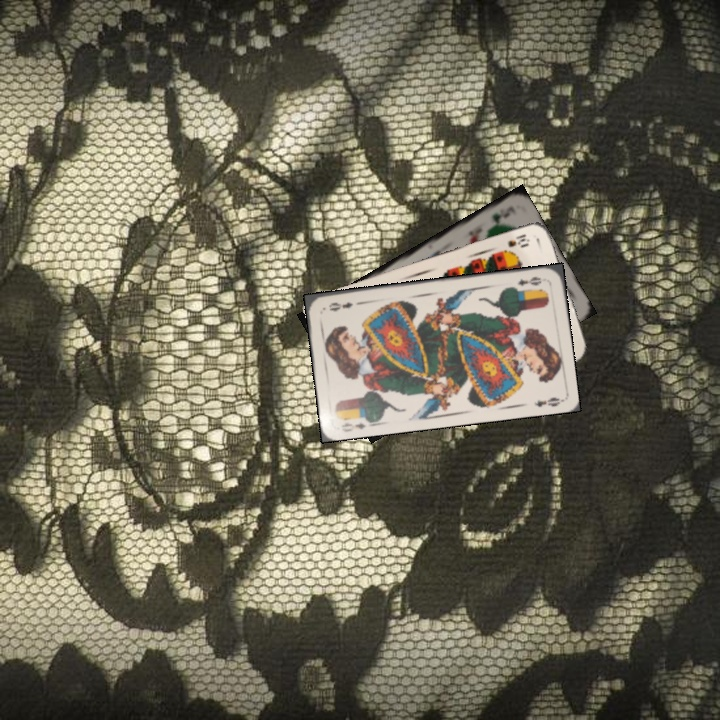EO: (338, 412, 376, 434), (513, 272, 544, 288)
GK: (488, 208, 513, 225)
S10: (504, 230, 532, 250)
